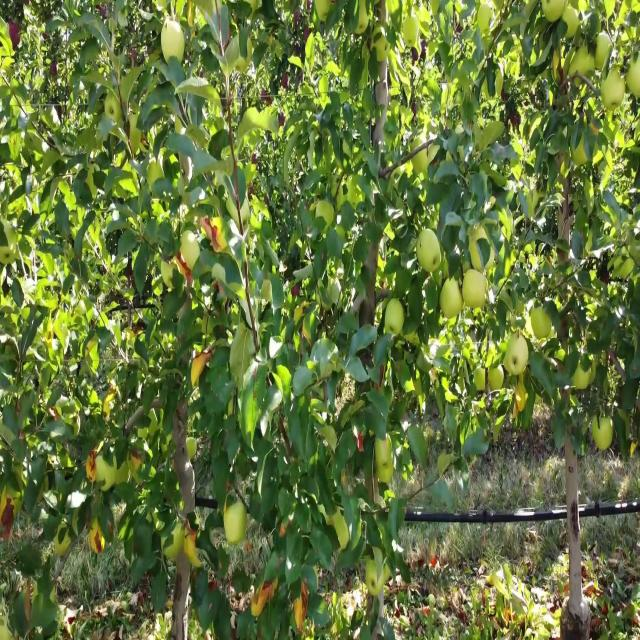apple: (416, 227, 443, 272), (472, 227, 495, 276), (224, 504, 248, 548), (164, 21, 186, 64), (464, 270, 488, 308), (604, 71, 627, 110), (440, 284, 464, 318), (472, 234, 491, 274), (532, 305, 553, 341), (592, 419, 614, 452), (164, 526, 184, 562), (556, 49, 579, 80), (564, 7, 587, 37), (184, 526, 200, 569), (372, 28, 390, 64), (176, 248, 193, 286), (192, 355, 211, 389), (596, 35, 613, 73), (576, 49, 595, 78), (572, 135, 588, 169), (628, 56, 640, 101), (356, 7, 374, 37), (388, 305, 405, 336), (544, 0, 565, 25), (212, 220, 227, 254), (296, 597, 308, 635), (576, 362, 591, 391), (556, 42, 567, 80), (56, 533, 72, 558), (4, 490, 15, 526), (88, 447, 99, 482), (252, 590, 265, 619), (180, 7, 197, 28), (488, 369, 504, 391), (208, 220, 222, 245), (516, 383, 528, 412), (8, 21, 20, 48), (104, 391, 116, 418), (616, 7, 629, 28), (476, 369, 488, 391), (132, 447, 143, 471), (280, 519, 293, 539), (188, 7, 198, 30), (472, 305, 484, 320), (448, 391, 456, 405), (408, 376, 415, 391), (52, 63, 58, 78), (632, 440, 637, 455), (604, 270, 609, 284), (52, 412, 60, 420)
